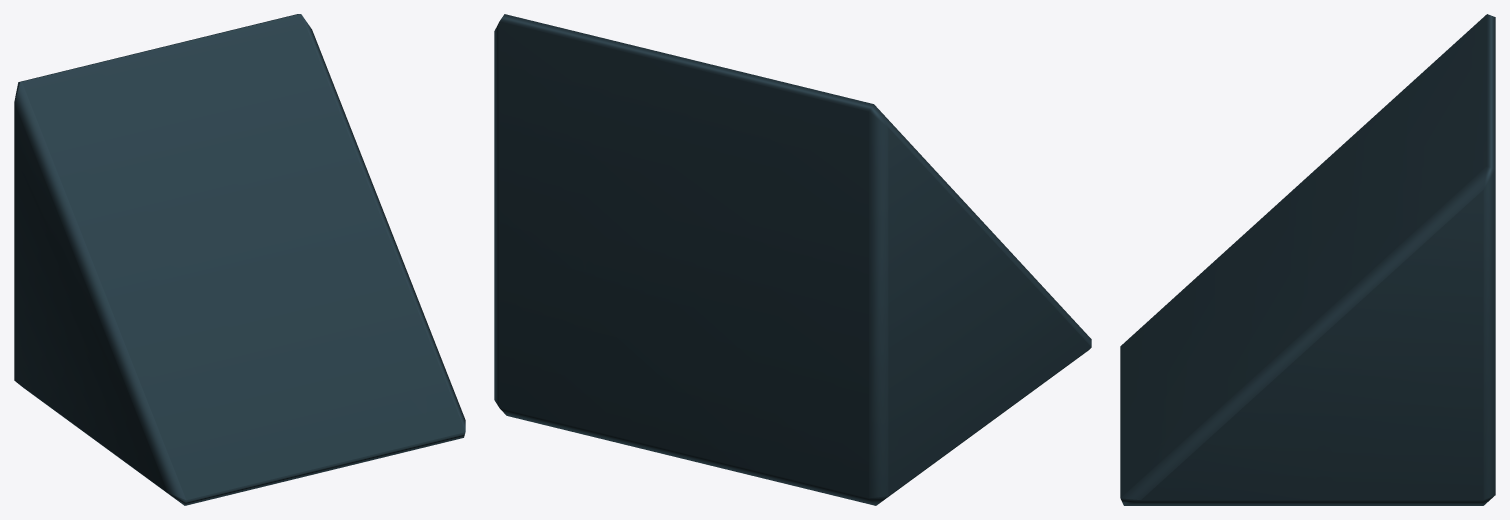
Rendered from ramp_straight_hue_5.fbx.
3 renders of one model, left to right at view 1: azimuth 30°, elevation 25°; view 2: azimuth 150°, elevation 25°; view 3: azimuth 270°, elevation 25°, orthographic. The views are drawn at different scales.
Visible parts, largest first — view 1: ramp_straight_hue_5; view 2: ramp_straight_hue_5; view 3: ramp_straight_hue_5.
Part boxes in pixels (<box>): ramp_straight_hue_5: <box>14,14,465,505</box>; ramp_straight_hue_5: <box>494,14,1091,505</box>; ramp_straight_hue_5: <box>1120,14,1495,505</box>.
Size of the model in its own units: 100 by 97.79 by 97.79.
